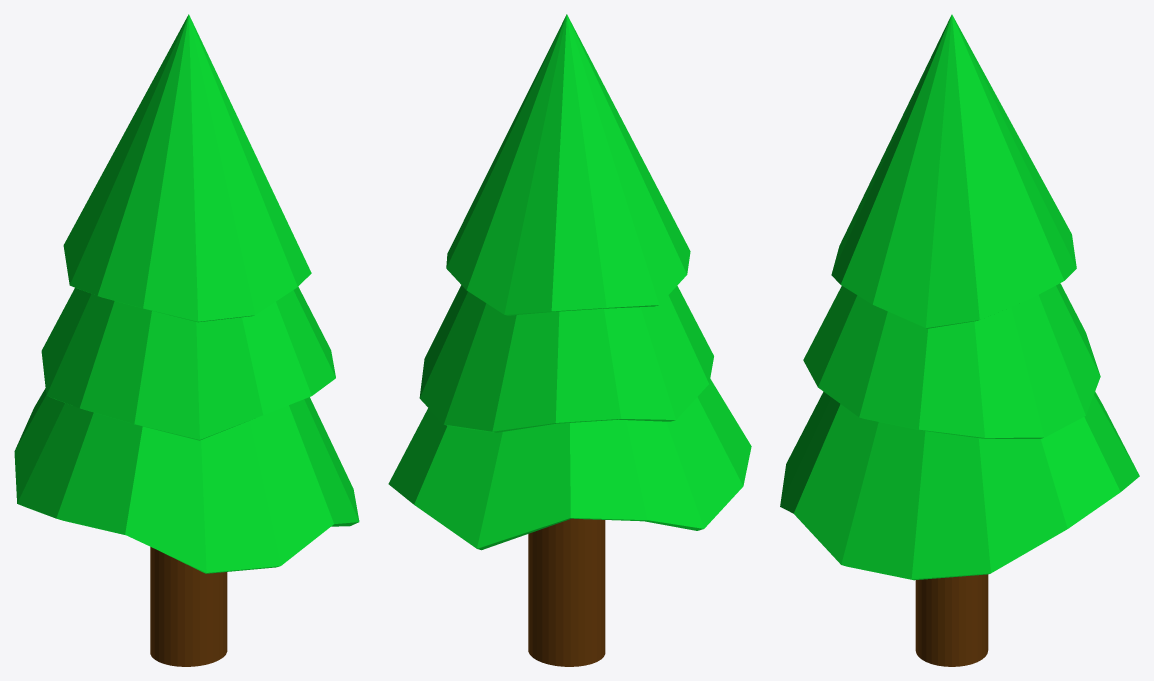
File: treeeereeeeeweeeeee.fbx
3 views of the same model, side by side, from view 1: azimuth 30°, elevation 25°; view 2: azimuth 150°, elevation 25°; view 3: azimuth 270°, elevation 25° (orthographic).
Visible parts, largest first — view 1: Cone.001, Cone, Cone.002, Cylinder; view 2: Cone.001, Cone, Cone.002, Cylinder; view 3: Cone, Cone.001, Cone.002, Cylinder.
Boxes of the visible parts, x1,y1,x2,y2 form: Cone.001: (63,14,311,322); Cone: (14,388,359,573); Cone.002: (41,286,335,440); Cylinder: (150,547,227,666); Cone.001: (446,14,690,315); Cone: (388,379,751,550); Cone.002: (419,285,713,432); Cylinder: (528,518,605,666); Cone: (780,391,1139,580); Cone.001: (831,14,1076,328); Cone.002: (803,283,1100,438); Cylinder: (915,574,988,666).
Bounding box in the file's own units: 287 × 577 × 296.
